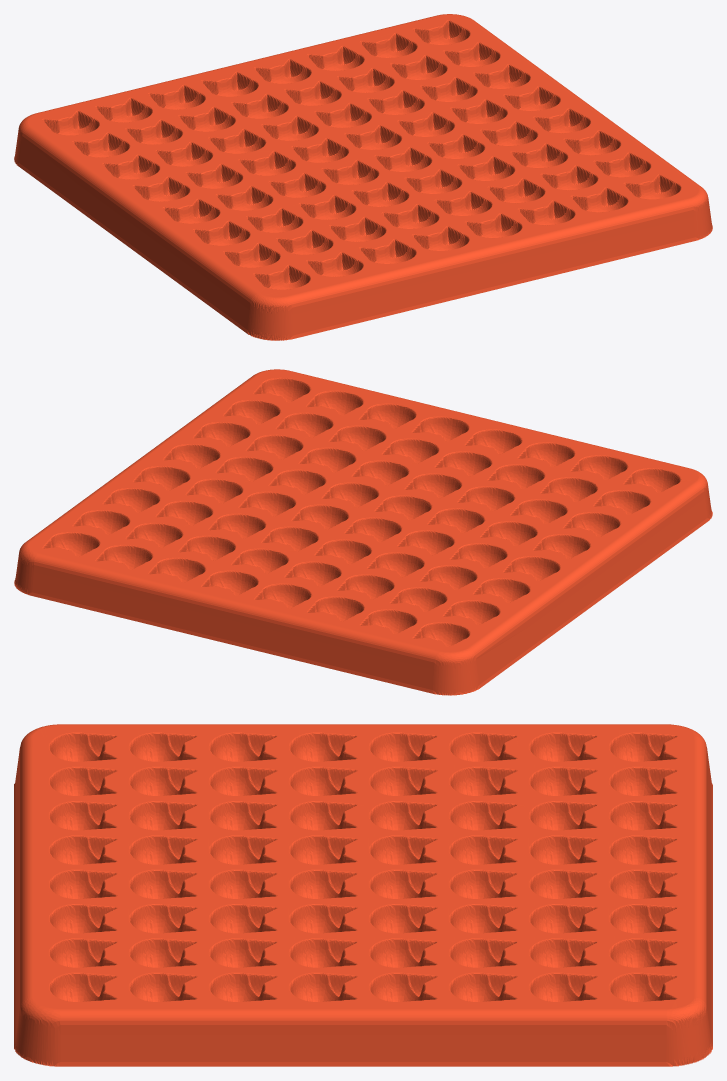
The model's file is mold.glb.
The picture shows the model from 3 angles, top to bottom: view 1: azimuth 30°, elevation 25°; view 2: azimuth 150°, elevation 25°; view 3: azimuth 270°, elevation 25°; orthographic projection. The views are drawn at different scales.
Visible parts, largest first — view 1: geometry_0; view 2: geometry_0; view 3: geometry_0.
Boxes of the visible parts, <box> form: geometry_0: <box>14,14,712,340</box>; geometry_0: <box>14,369,712,695</box>; geometry_0: <box>14,724,712,1066</box>.
Bounding box in the file's own units: 0.1355 × 0.0105 × 0.1337.
